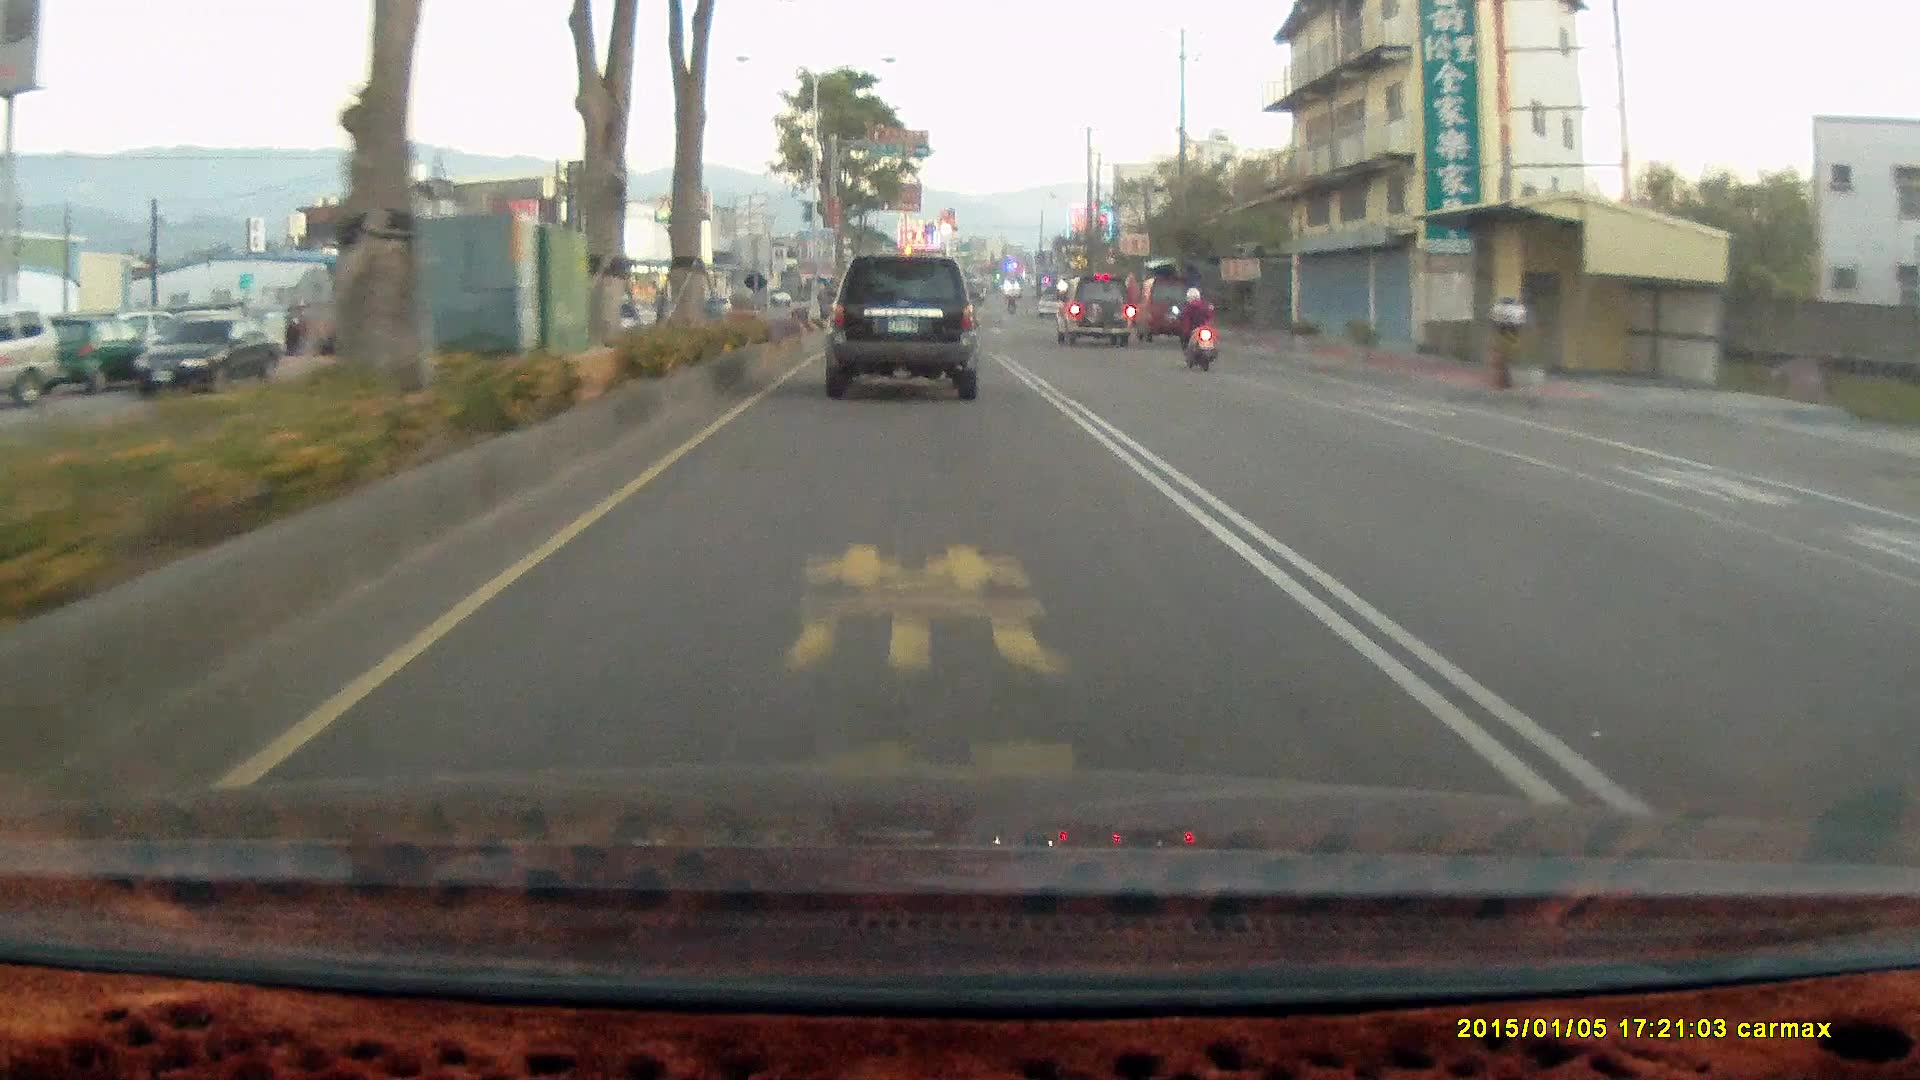rider: (1167, 279, 1226, 377), (1168, 286, 1217, 372)
vehicle: (824, 256, 989, 399), (820, 254, 980, 398), (128, 314, 279, 397), (135, 313, 278, 398), (1, 304, 66, 407), (1061, 276, 1145, 350), (1052, 274, 1135, 346), (1138, 276, 1204, 348), (1134, 274, 1200, 340)
